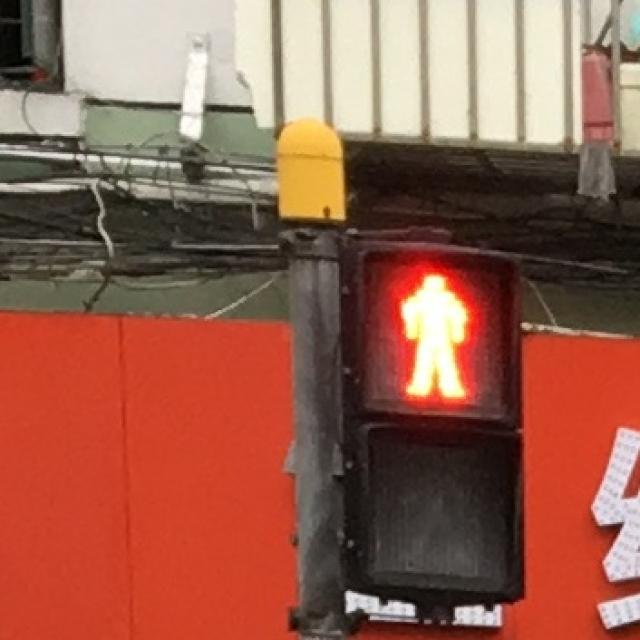red_light: (370, 252, 500, 415)
